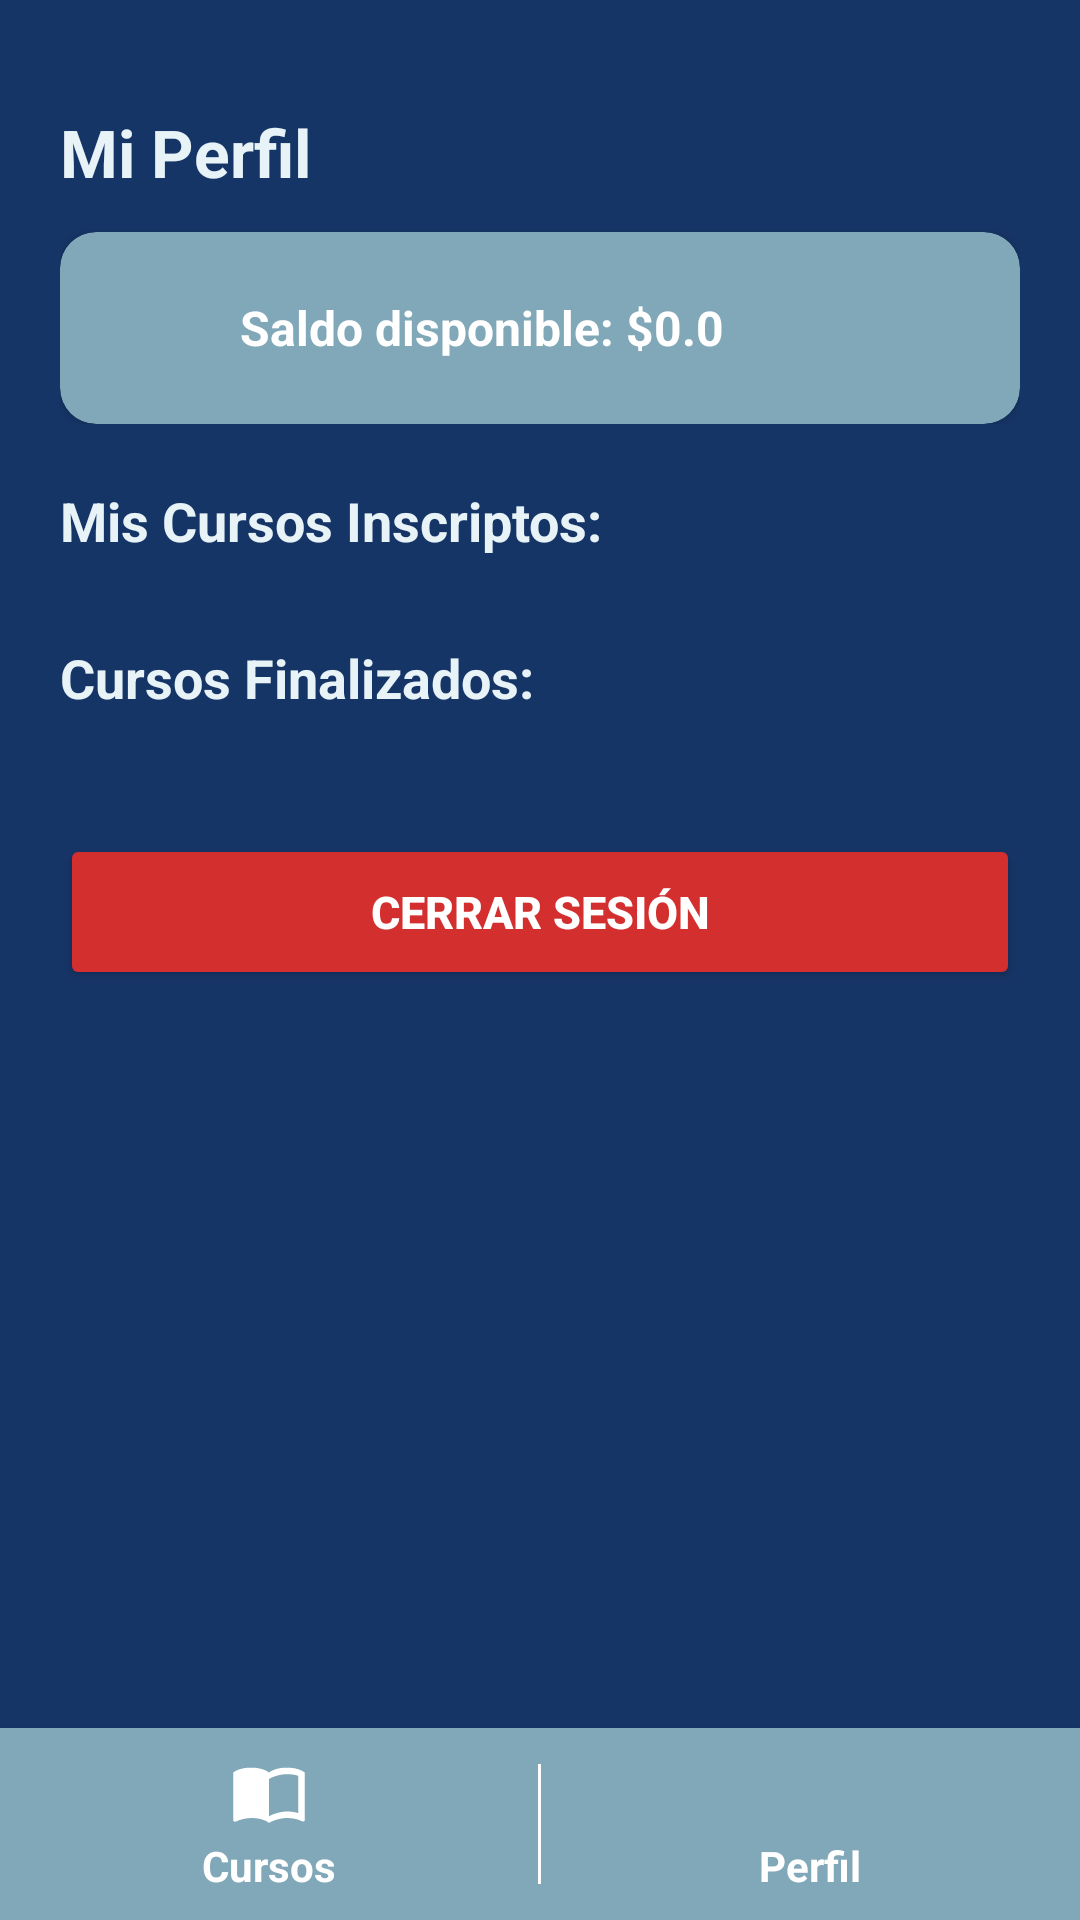

Icons on this 1080 x 1920 Android screen, each with its box as (x1, y1, x2, y2):
book: (233, 1767, 305, 1823)
